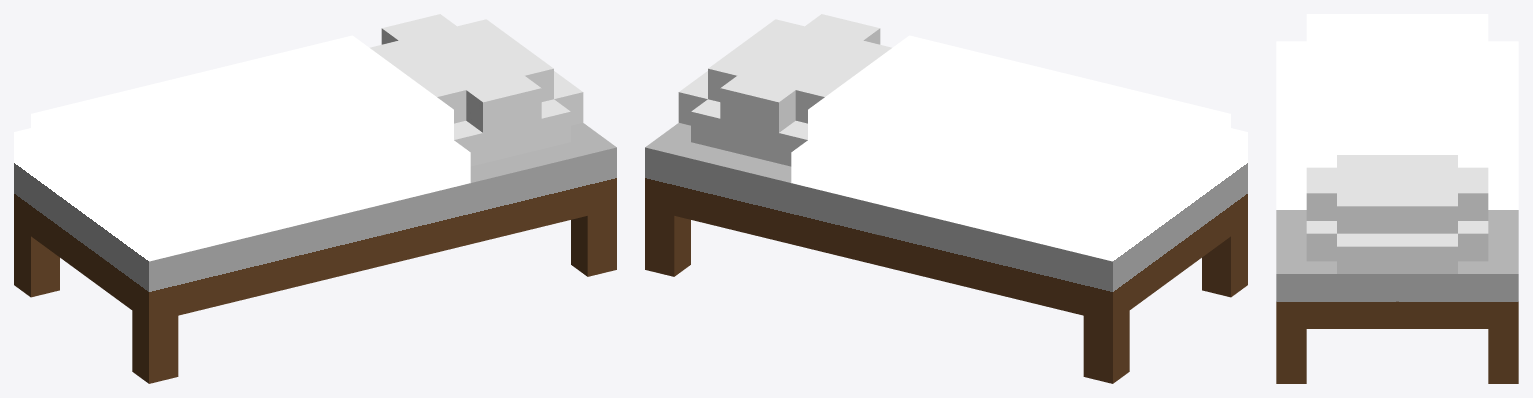
Rendered from Bed.dae.
3 views of the same model, side by side, from view 1: azimuth 30°, elevation 25°; view 2: azimuth 150°, elevation 25°; view 3: azimuth 270°, elevation 25° (orthographic). The views are drawn at different scales.
Visible parts, largest first — view 1: Lozko; view 2: Lozko; view 3: Lozko.
Part boxes in pixels (left/top/right/bottom): Lozko: left=14, top=14, right=616, bottom=383; Lozko: left=645, top=14, right=1247, bottom=383; Lozko: left=1276, top=14, right=1518, bottom=383.
Size of the model in its own units: 16 by 6 by 8.
1 material, 1 textured.
